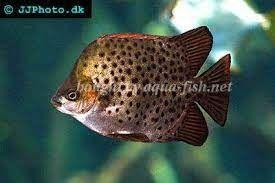Scat Fish: (52, 25, 231, 149)
